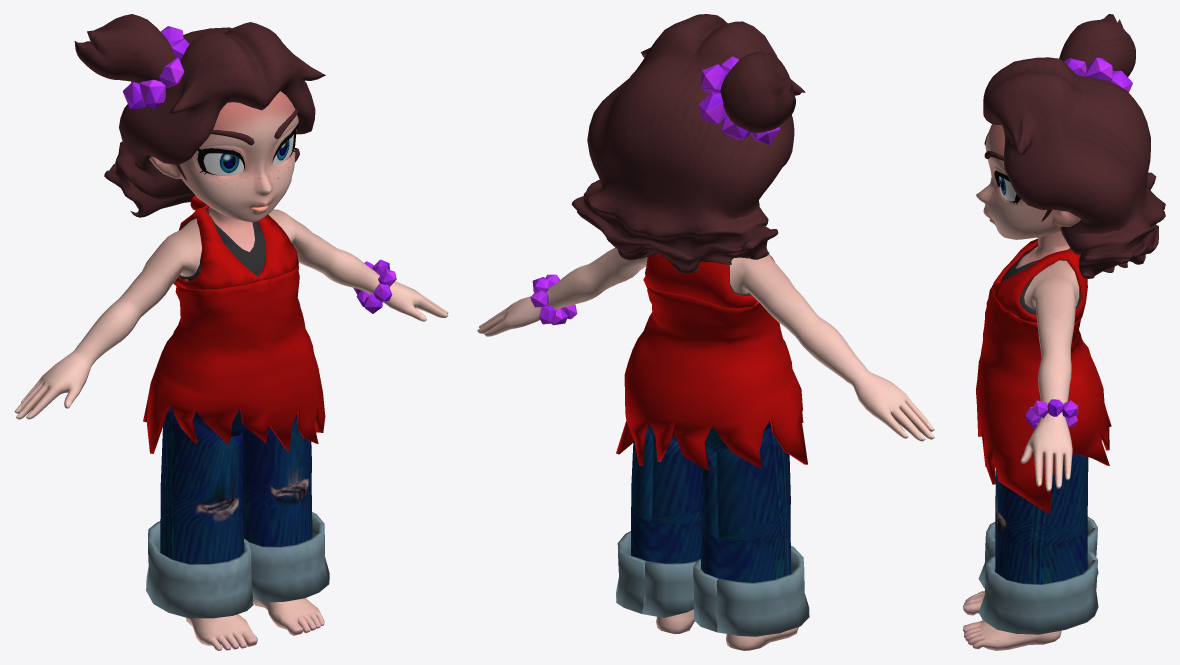
The model's file is aria.glb.
The picture shows the model from 3 angles, left to right: view 1: azimuth 30°, elevation 25°; view 2: azimuth 150°, elevation 25°; view 3: azimuth 270°, elevation 25°; orthographic projection. The views are drawn at different scales.
Visible parts, largest first — view 1: Object_12, Object_11, Object_6, Object_15, Object_4, Object_5, Object_14, Object_10, Object_13; view 2: Object_6, Object_12, Object_11, Object_15, Object_14, Object_5; view 3: Object_6, Object_11, Object_12, Object_15, Object_4, Object_14, Object_5, Object_10.
Boxes of the visible parts, left/top/right/bottom form: Object_12: left=146, top=406, right=329, bottom=618; Object_11: left=143, top=195, right=325, bottom=453; Object_6: left=74, top=14, right=325, bottom=217; Object_15: left=14, top=208, right=448, bottom=419; Object_4: left=149, top=91, right=298, bottom=251; Object_5: left=186, top=598, right=324, bottom=650; Object_14: left=123, top=26, right=396, bottom=313; Object_10: left=179, top=206, right=293, bottom=280; Object_13: left=203, top=153, right=243, bottom=175; Object_6: left=571, top=14, right=805, bottom=274; Object_12: left=616, top=420, right=809, bottom=636; Object_11: left=616, top=254, right=807, bottom=470; Object_15: left=477, top=247, right=934, bottom=441; Object_14: left=530, top=56, right=780, bottom=325; Object_5: left=656, top=609, right=802, bottom=650; Object_6: left=983, top=14, right=1165, bottom=278; Object_11: left=976, top=238, right=1111, bottom=514; Object_12: left=978, top=454, right=1098, bottom=634; Object_15: left=1020, top=260, right=1079, bottom=491; Object_4: left=976, top=124, right=1080, bottom=268; Object_14: left=1025, top=57, right=1132, bottom=428; Object_5: left=963, top=590, right=1061, bottom=650; Object_10: left=1001, top=245, right=1080, bottom=315.
Size of the model in its own units: 10.78 by 14.1 by 4.57.
Materials: 16 (12 with a texture image).
